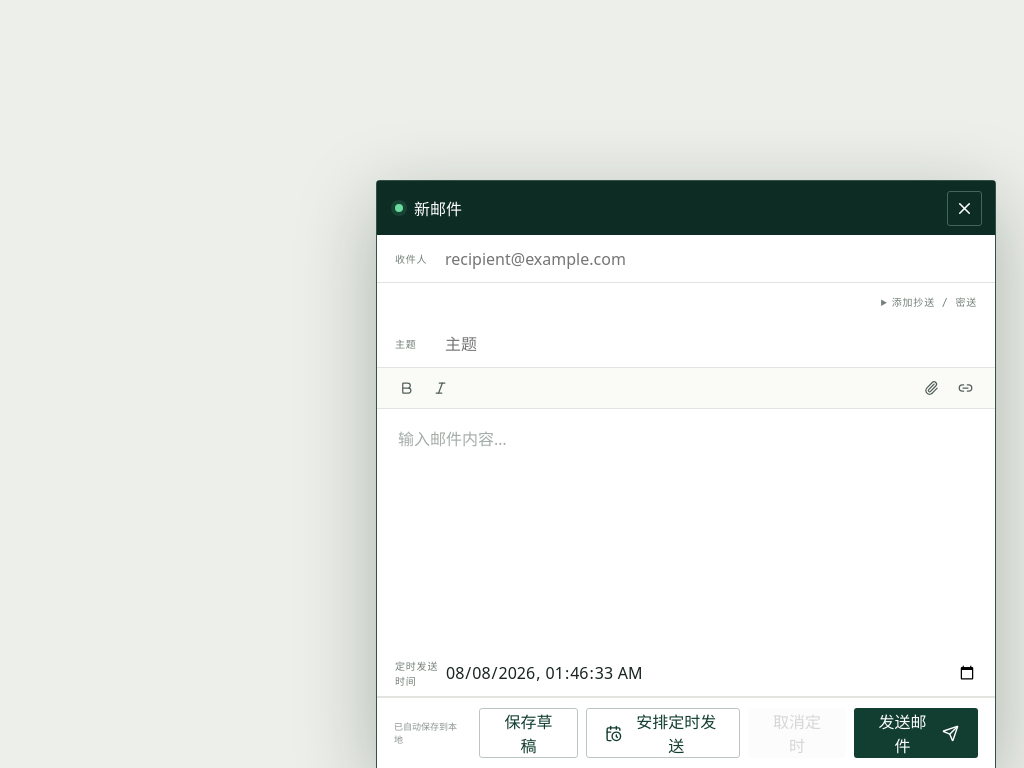
Scenario: ComposePanel › reports an invalid recipient through the active locale before sending
Type "not-an-email" into the field labelled "收件人" at (711, 258), box [445, 235, 977, 282]
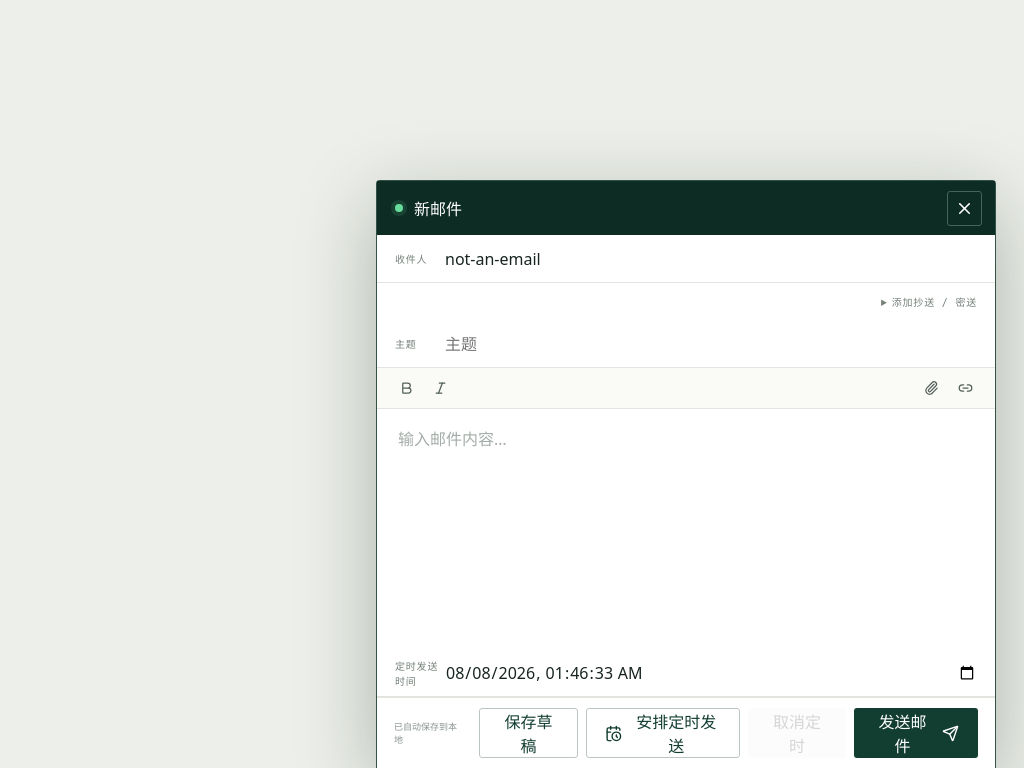
Click the button "发送邮件" at (916, 733), box [854, 708, 978, 758]
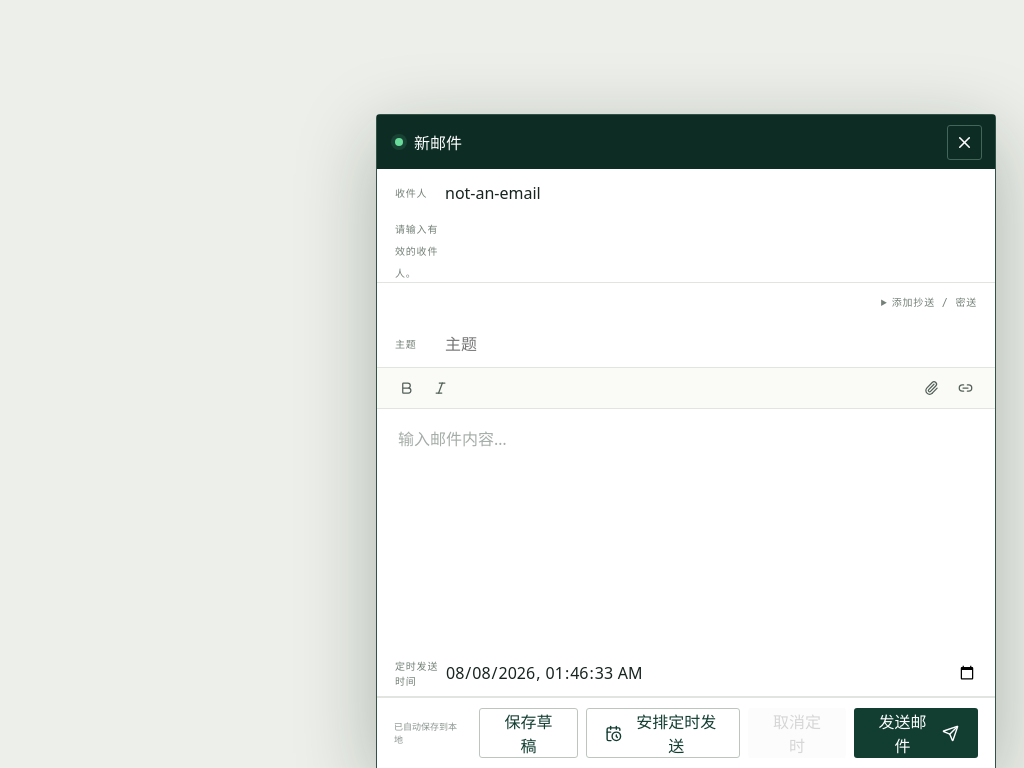
Expected: the message reads "请输入有效的收件人。", [395, 224, 438, 279]
